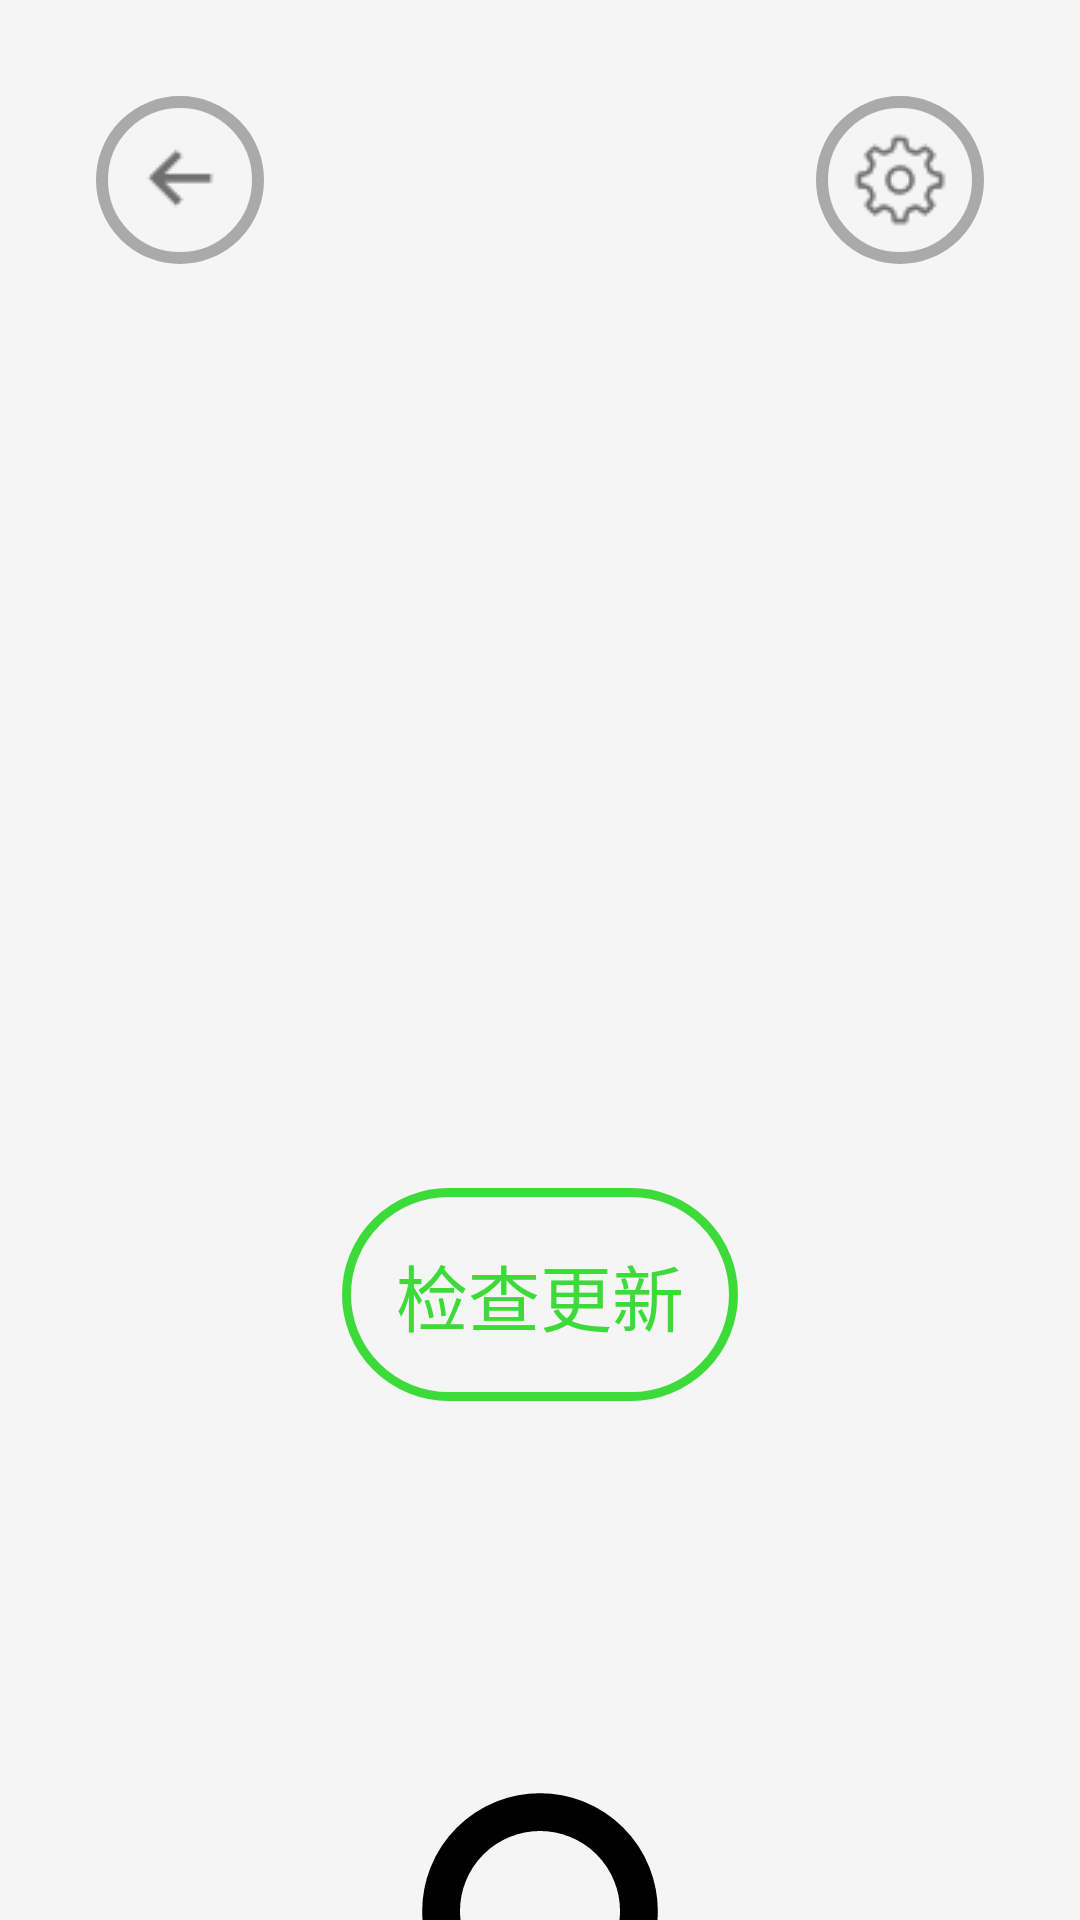

Icon bounding boxes for this 1080×1920 phone screenshot, format (x1, y1, x2, y2):
back: (96, 96, 264, 264)
config: (816, 96, 984, 264)
